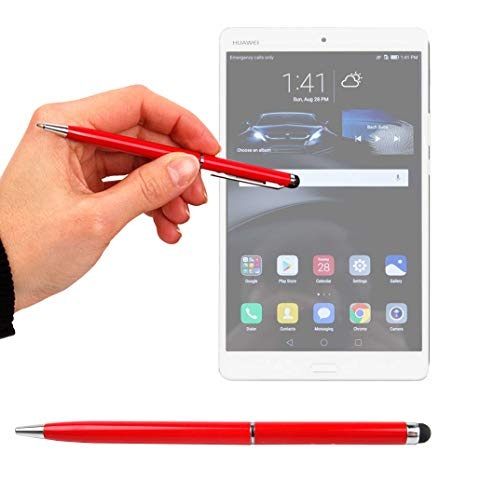Boligrafo: (34, 118, 300, 192), (11, 418, 431, 446)
